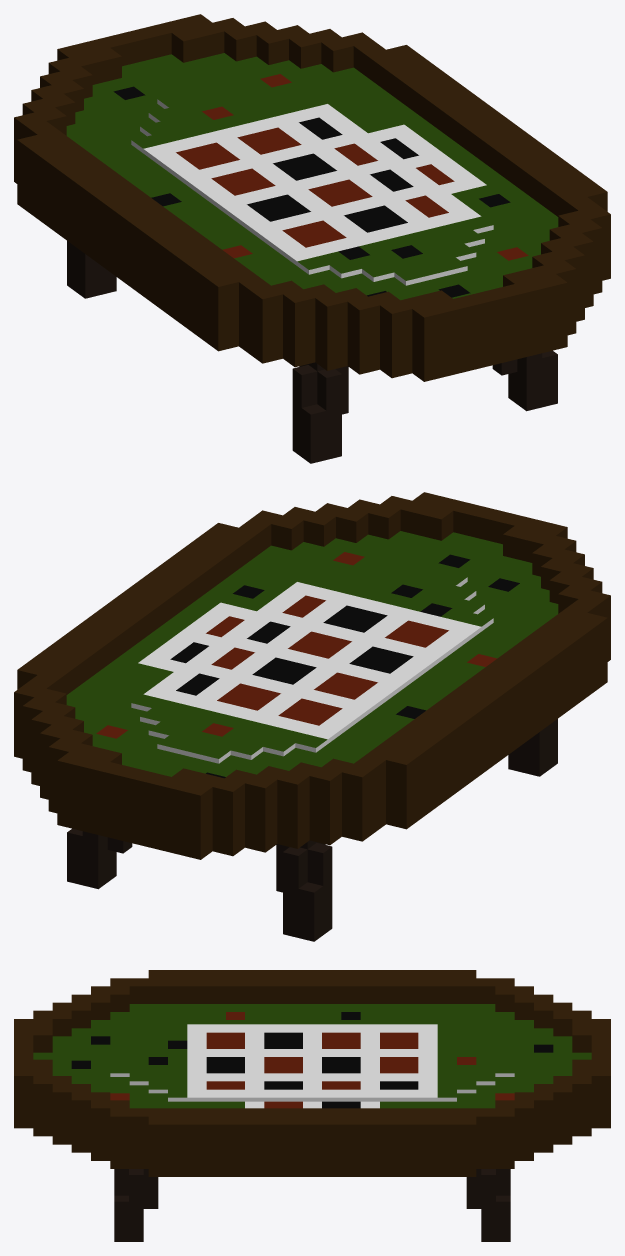
Rendered from table.fbx.
3 renders of one model, top to bottom at view 1: azimuth 30°, elevation 25°; view 2: azimuth 150°, elevation 25°; view 3: azimuth 270°, elevation 25°, orthographic. The views are drawn at different scales.
Parts seen in each view (by area): view 1: Cube.005; view 2: Cube.005; view 3: Cube.005.
Boxes of the visible parts, x1,y1,x2,y2 form: Cube.005: [14, 14, 610, 463]; Cube.005: [14, 492, 610, 941]; Cube.005: [14, 970, 610, 1241].
Bounding box in the file's own units: 2.11 × 0.9255 × 3.44.
